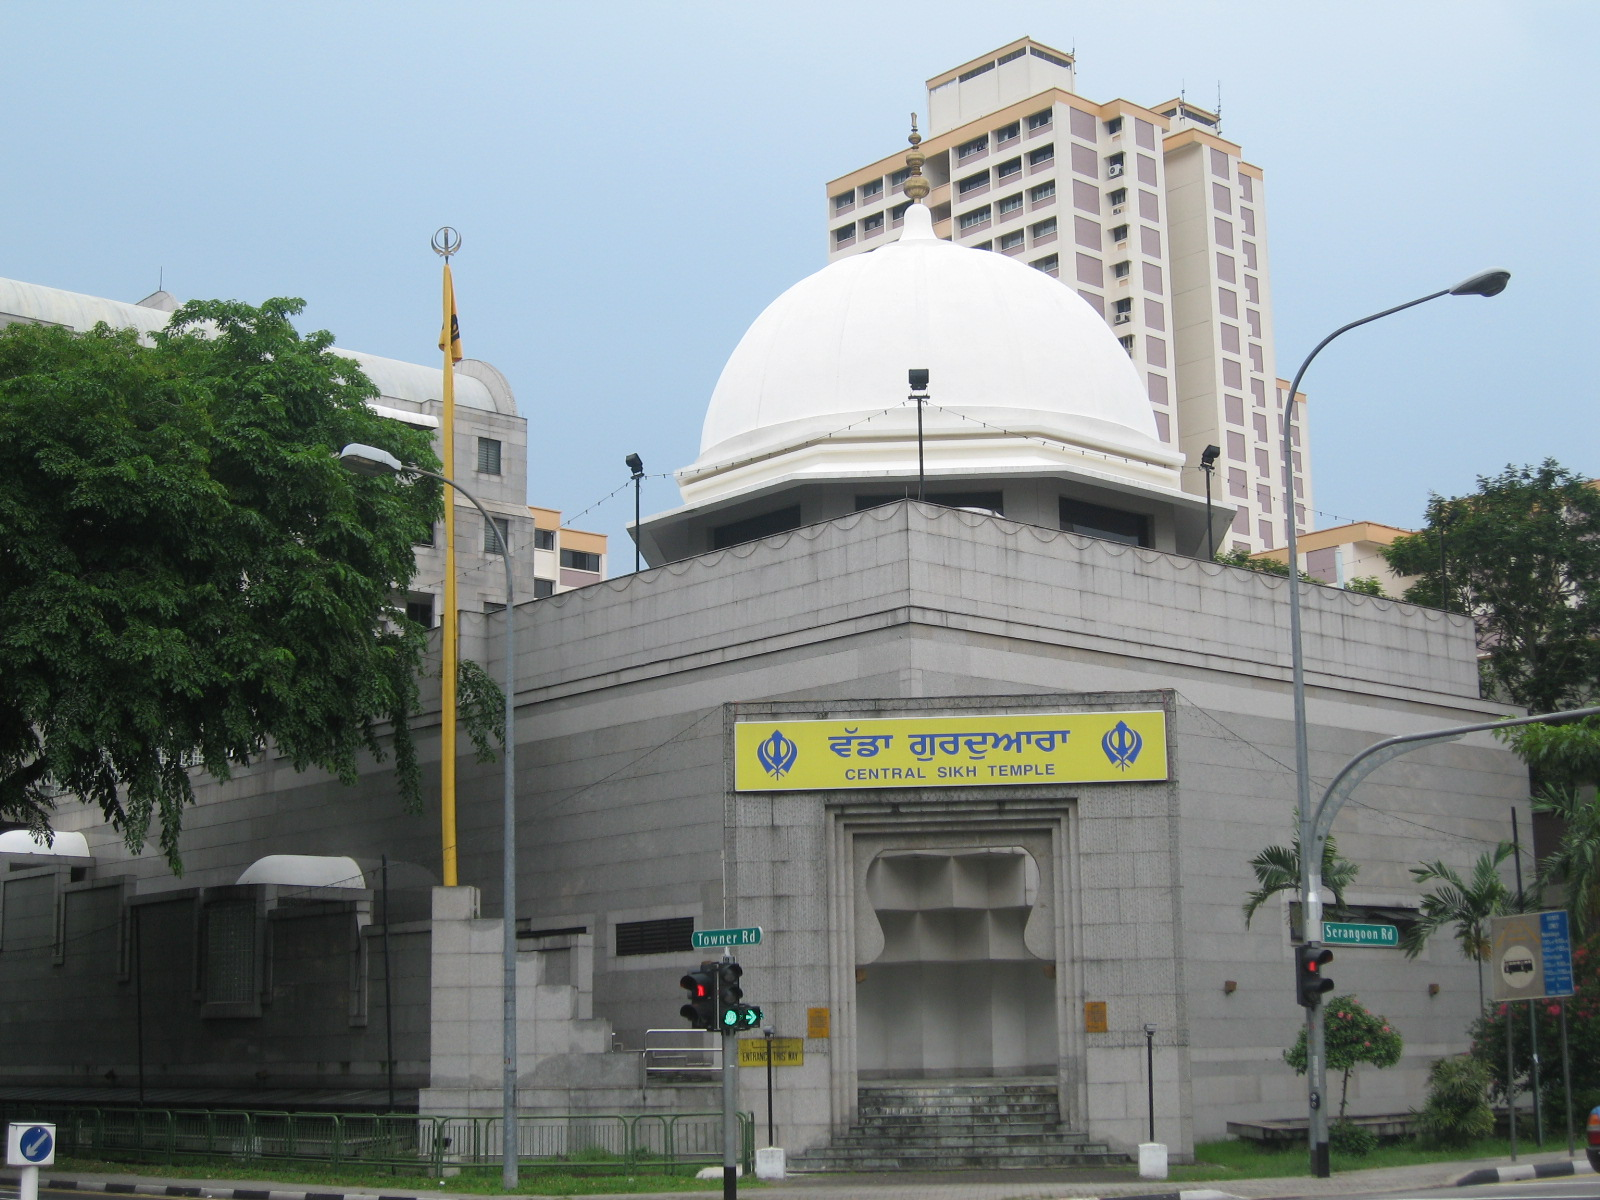Gurdwara: (372, 178, 1410, 1116)
